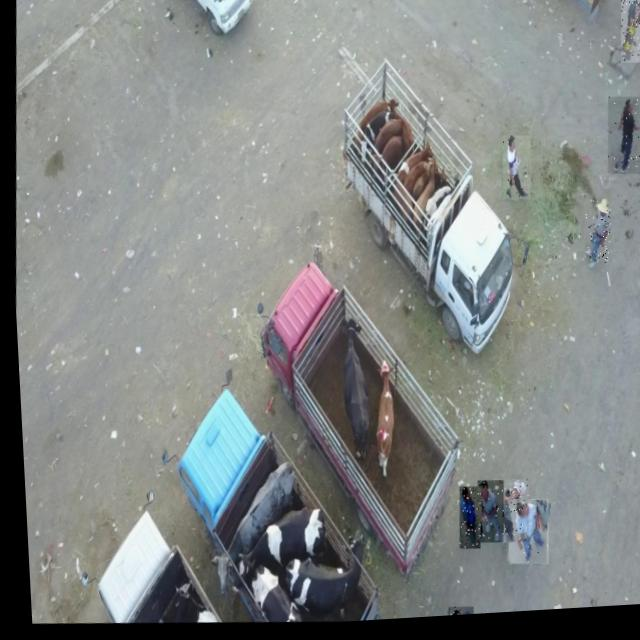Person: (499, 503, 545, 572), (602, 103, 640, 184), (485, 484, 525, 550), (497, 141, 531, 207), (580, 204, 612, 272), (469, 485, 500, 550), (451, 491, 477, 555), (617, 6, 640, 71), (439, 611, 466, 621)
